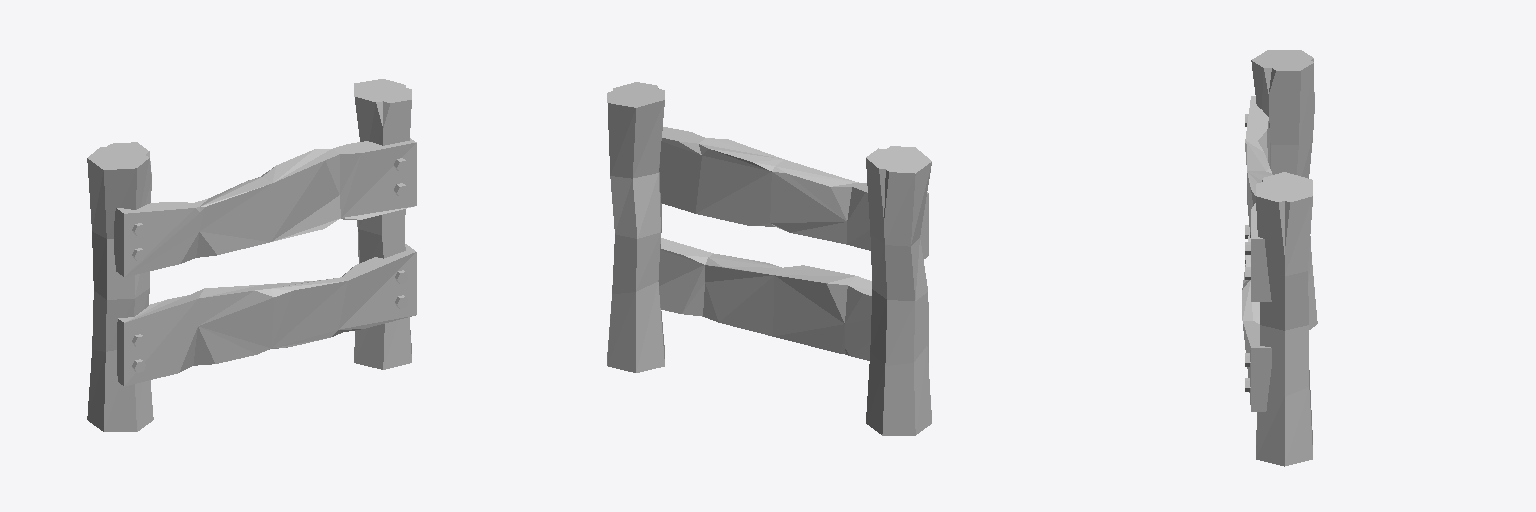
Rendered from Fence 001.obj.
The picture shows the model from 3 angles: view 1: azimuth 30°, elevation 25°; view 2: azimuth 150°, elevation 25°; view 3: azimuth 270°, elevation 25°; orthographic projection.
Parts seen in each view (by area): view 1: pCylinder11; view 2: pCylinder11; view 3: pCylinder11.
Boxes of the visible parts, <box> form: pCylinder11: <box>87,79,416,431</box>; pCylinder11: <box>607,82,931,435</box>; pCylinder11: <box>1242,50,1317,466</box>.
Size of the model in its own units: 10.99 by 8.84 by 2.27.